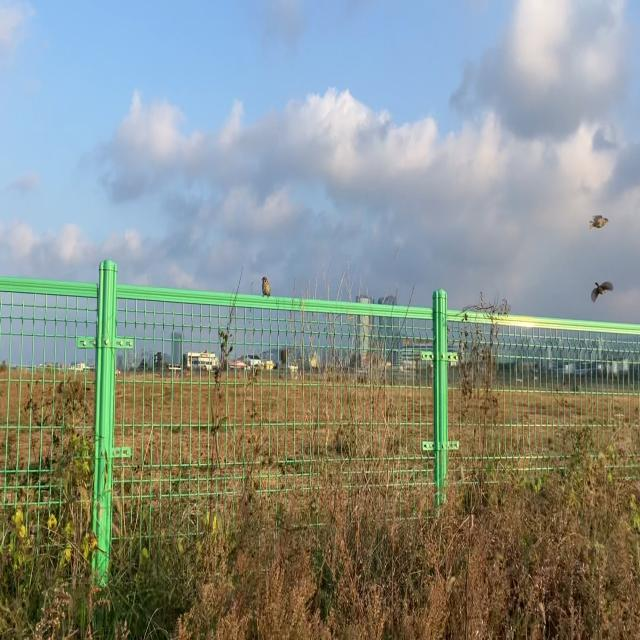bird: (592, 279, 615, 307), (590, 210, 610, 234), (260, 274, 273, 298)
